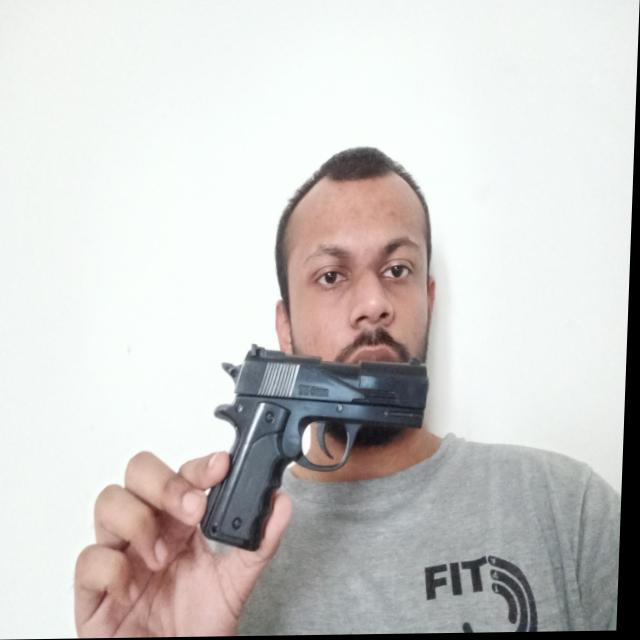handgun: (203, 343, 435, 554)
